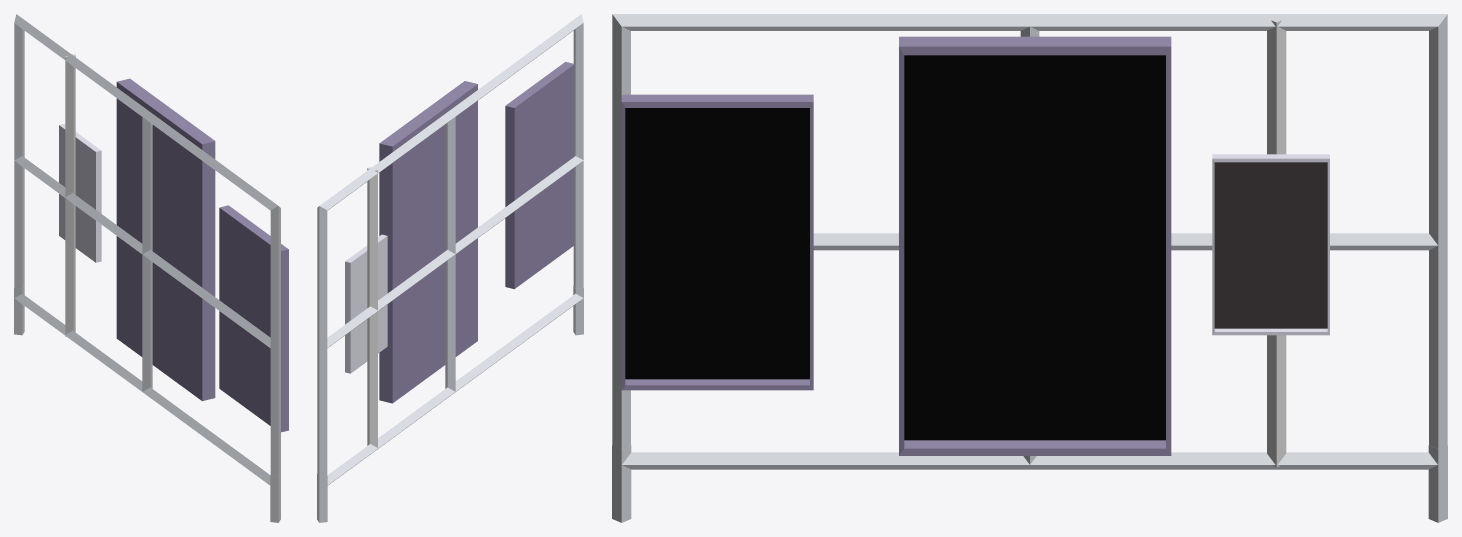
The model's file is Wireframe_Display.glb.
3 views of the same model, side by side, from view 1: azimuth 30°, elevation 25°; view 2: azimuth 150°, elevation 25°; view 3: azimuth 270°, elevation 25° (orthographic). The views are drawn at different scales.
Visible parts, largest first — view 1: Cube.004, Plane.002, Cube.001, Cube.008, Cube.006; view 2: Cube.004, Plane.002, Cube.001, Cube.008, Cube.006; view 3: Cube.004, Cube.001, Plane.002, Cube.008, Cube.006.
Boxes of the visible parts, <box> form: Cube.004: <box>116,78,215,401</box>; Plane.002: <box>14,14,280,522</box>; Cube.001: <box>219,205,288,432</box>; Cube.008: <box>59,123,101,262</box>; Cube.006: <box>65,54,75,336</box>; Cube.004: <box>379,81,477,403</box>; Plane.002: <box>317,14,583,522</box>; Cube.001: <box>505,62,573,289</box>; Cube.008: <box>345,234,387,373</box>; Cube.006: <box>367,167,377,449</box>; Cube.004: <box>899,36,1171,455</box>; Cube.001: <box>621,94,813,390</box>; Plane.002: <box>612,14,1447,522</box>; Cube.008: <box>1212,154,1329,335</box>; Cube.006: <box>1267,20,1286,467</box>.
Size of the model in its own units: 0.2483 by 2.3 by 3.46.
